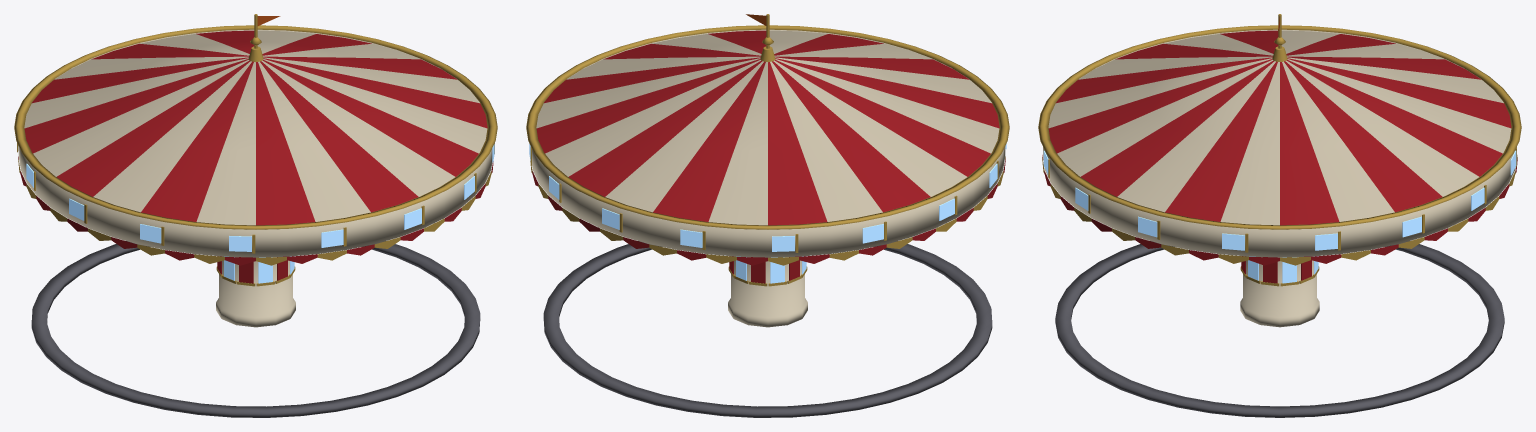
Rendered from hg-carousel.glb.
3 views of the same model, side by side, from view 1: azimuth 30°, elevation 25°; view 2: azimuth 150°, elevation 25°; view 3: azimuth 270°, elevation 25° (orthographic).
Visible parts, largest first — view 1: hg-carousel; view 2: hg-carousel; view 3: hg-carousel.
Part boxes in pixels (bbox=[...]): hg-carousel: bbox=[14, 14, 497, 417]; hg-carousel: bbox=[526, 14, 1009, 417]; hg-carousel: bbox=[1038, 14, 1521, 417].
Size of the model in its own units: 10.44 by 7.35 by 10.44.
